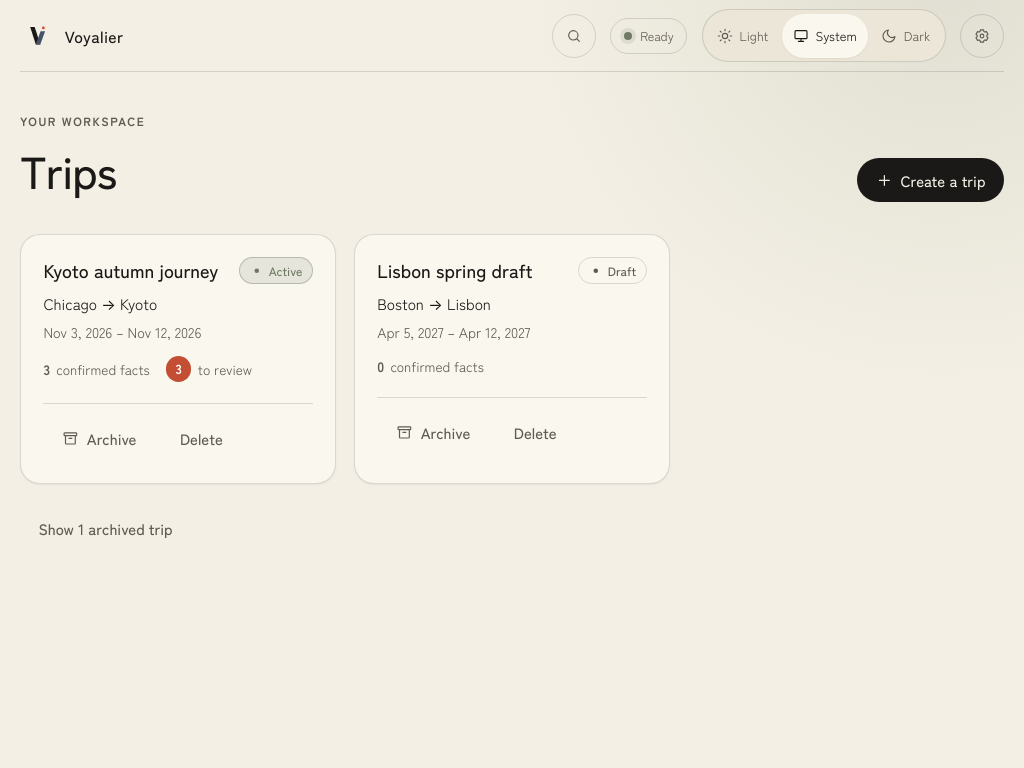
Test: concierge save recovery › preserves a newer Name in this trip draft after an earlier save succeeds
Click the button with aria-label "Open Kyoto autumn journey" at coordinates (131, 270), box [43,257,218,283]
(page scrolled)
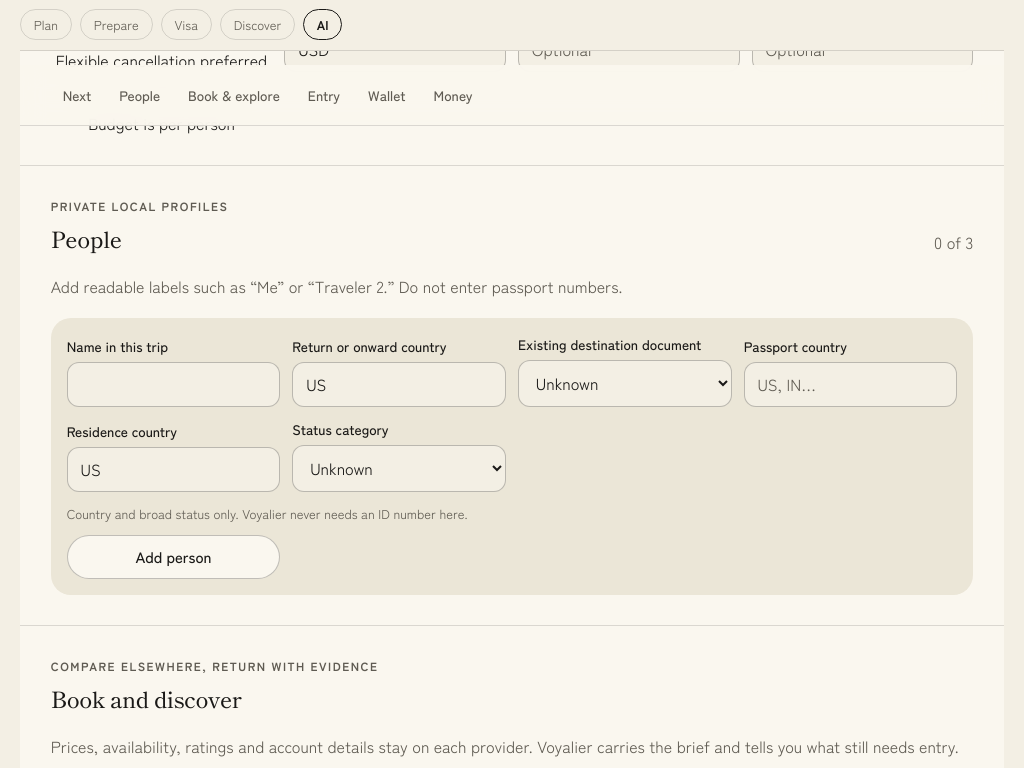
Type "First estimate" into the field labelled "Name in this trip" at coordinates (174, 384), box [67,362,280,407]
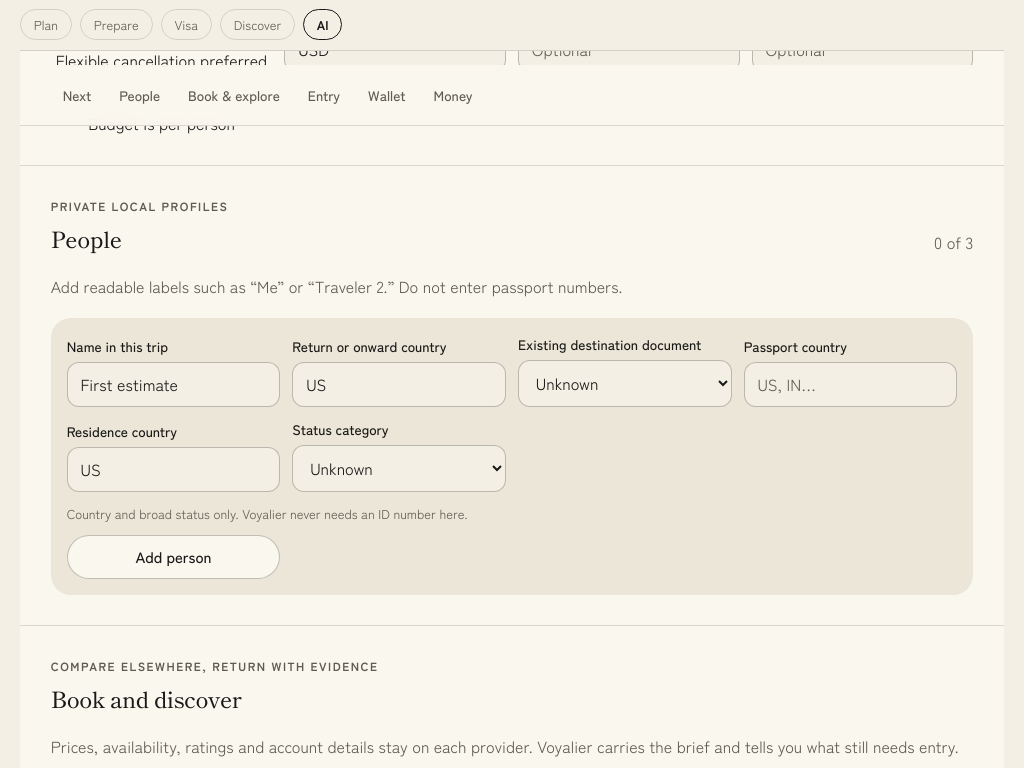
Submit the form "Name in this trip", box [51,318,973,595]
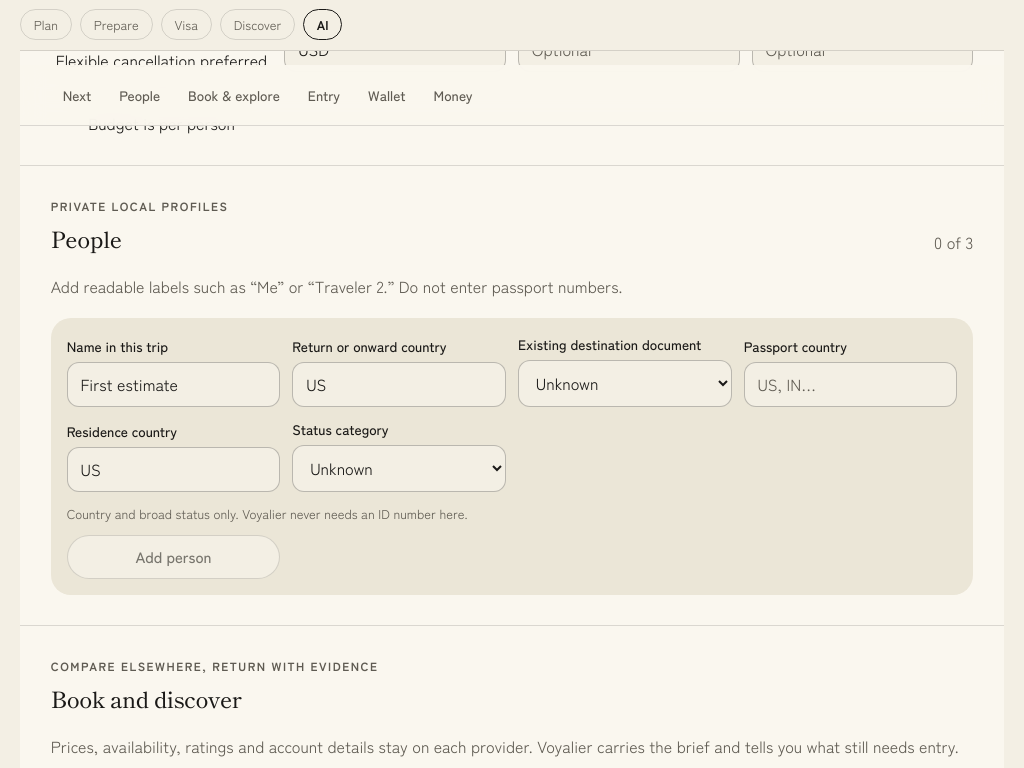
Replace the text in the field labelled "Name in this trip" with "Next estimate" at coordinates (174, 384), box [67,362,280,407]
(page scrolled)
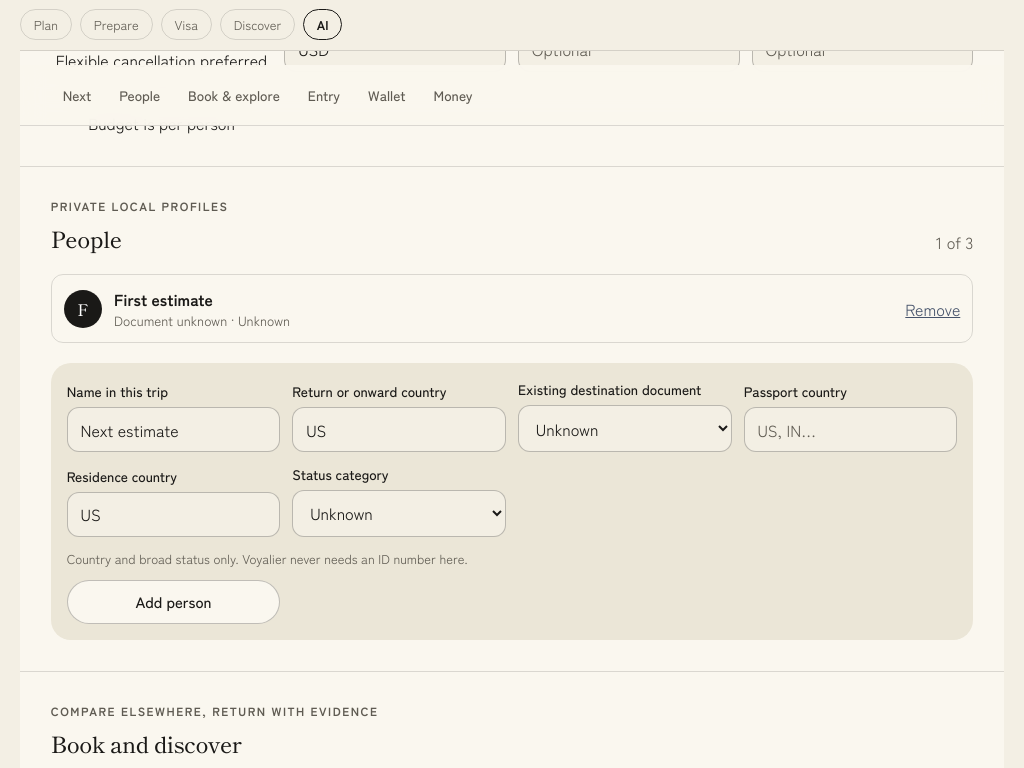
Result: the text "First estimate" is shown at [114,287,213,311]
